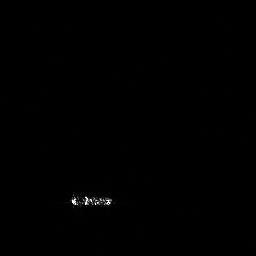ship: (68, 192, 118, 209)
